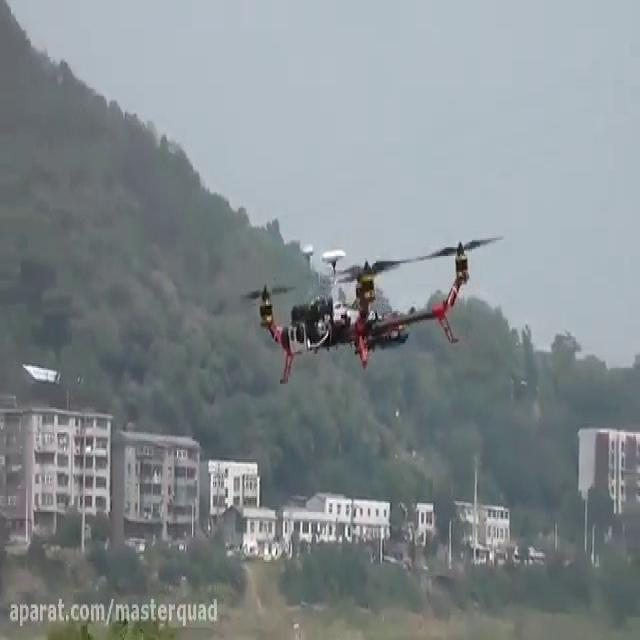drone: (232, 226, 506, 386)
